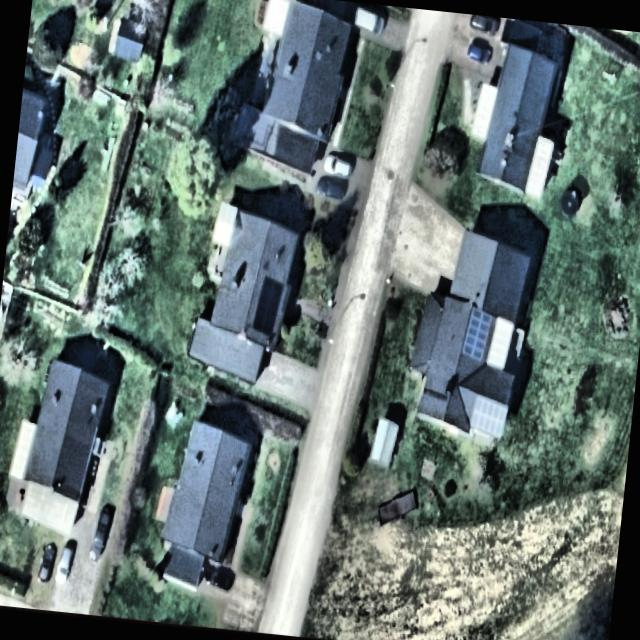roof_pv: (452, 302, 494, 366), (250, 269, 286, 338), (470, 392, 510, 438)
